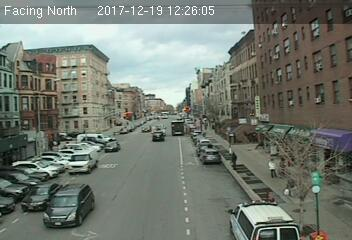car: (44, 184, 94, 231), (20, 182, 63, 213), (200, 147, 223, 166), (104, 141, 120, 152), (152, 131, 164, 141)
pedestrian: (268, 158, 278, 180)
police: (228, 196, 309, 240)
truck: (68, 148, 100, 175)
ups: (171, 121, 185, 136)
